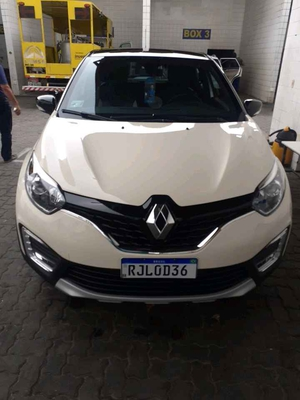Frontal Veiculo: (14, 54, 294, 307)
